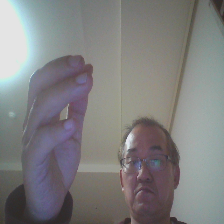hand: (19, 58, 97, 217)
